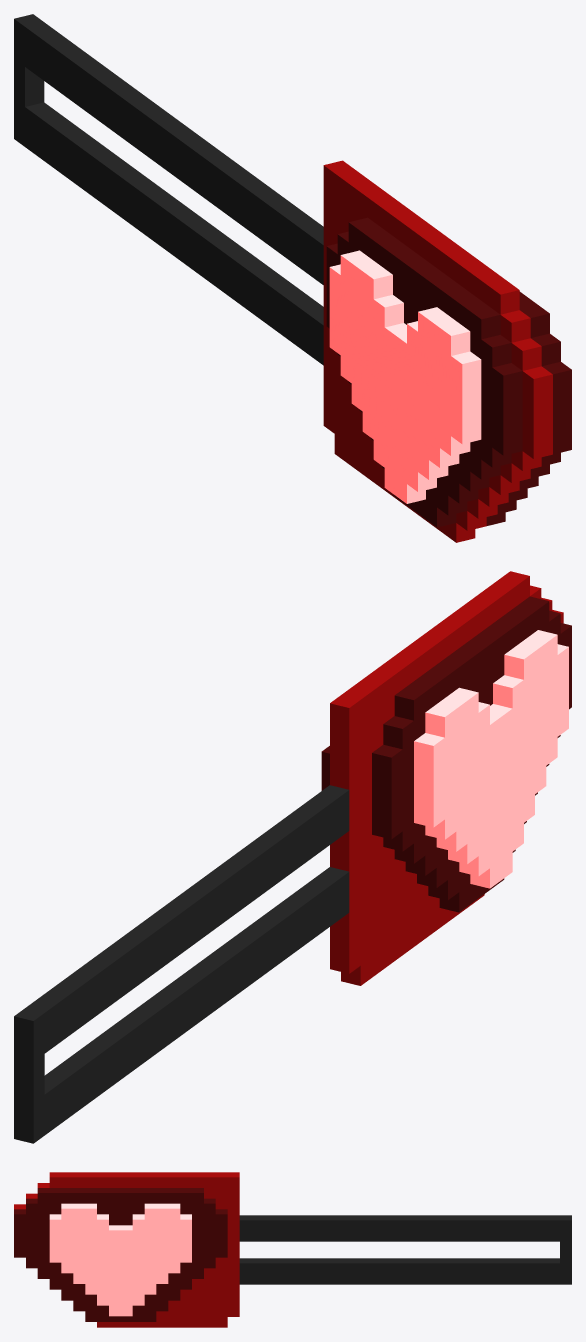
Rendered from javStoreSign.glb.
3 renders of one model, top to bottom at view 1: azimuth 30°, elevation 25°; view 2: azimuth 150°, elevation 25°; view 3: azimuth 270°, elevation 25°, orthographic. The views are drawn at different scales.
Visible parts, largest first — view 1: ObjObject; view 2: ObjObject; view 3: ObjObject.
Boxes of the visible parts, left/top/right/bottom form: ObjObject: left=14, top=14, right=571, bottom=542; ObjObject: left=14, top=571, right=571, bottom=1143; ObjObject: left=14, top=1172, right=571, bottom=1327.
Bounding box in the file's own units: 0.5 × 1.4 × 4.7.
2 materials, 1 textured.
